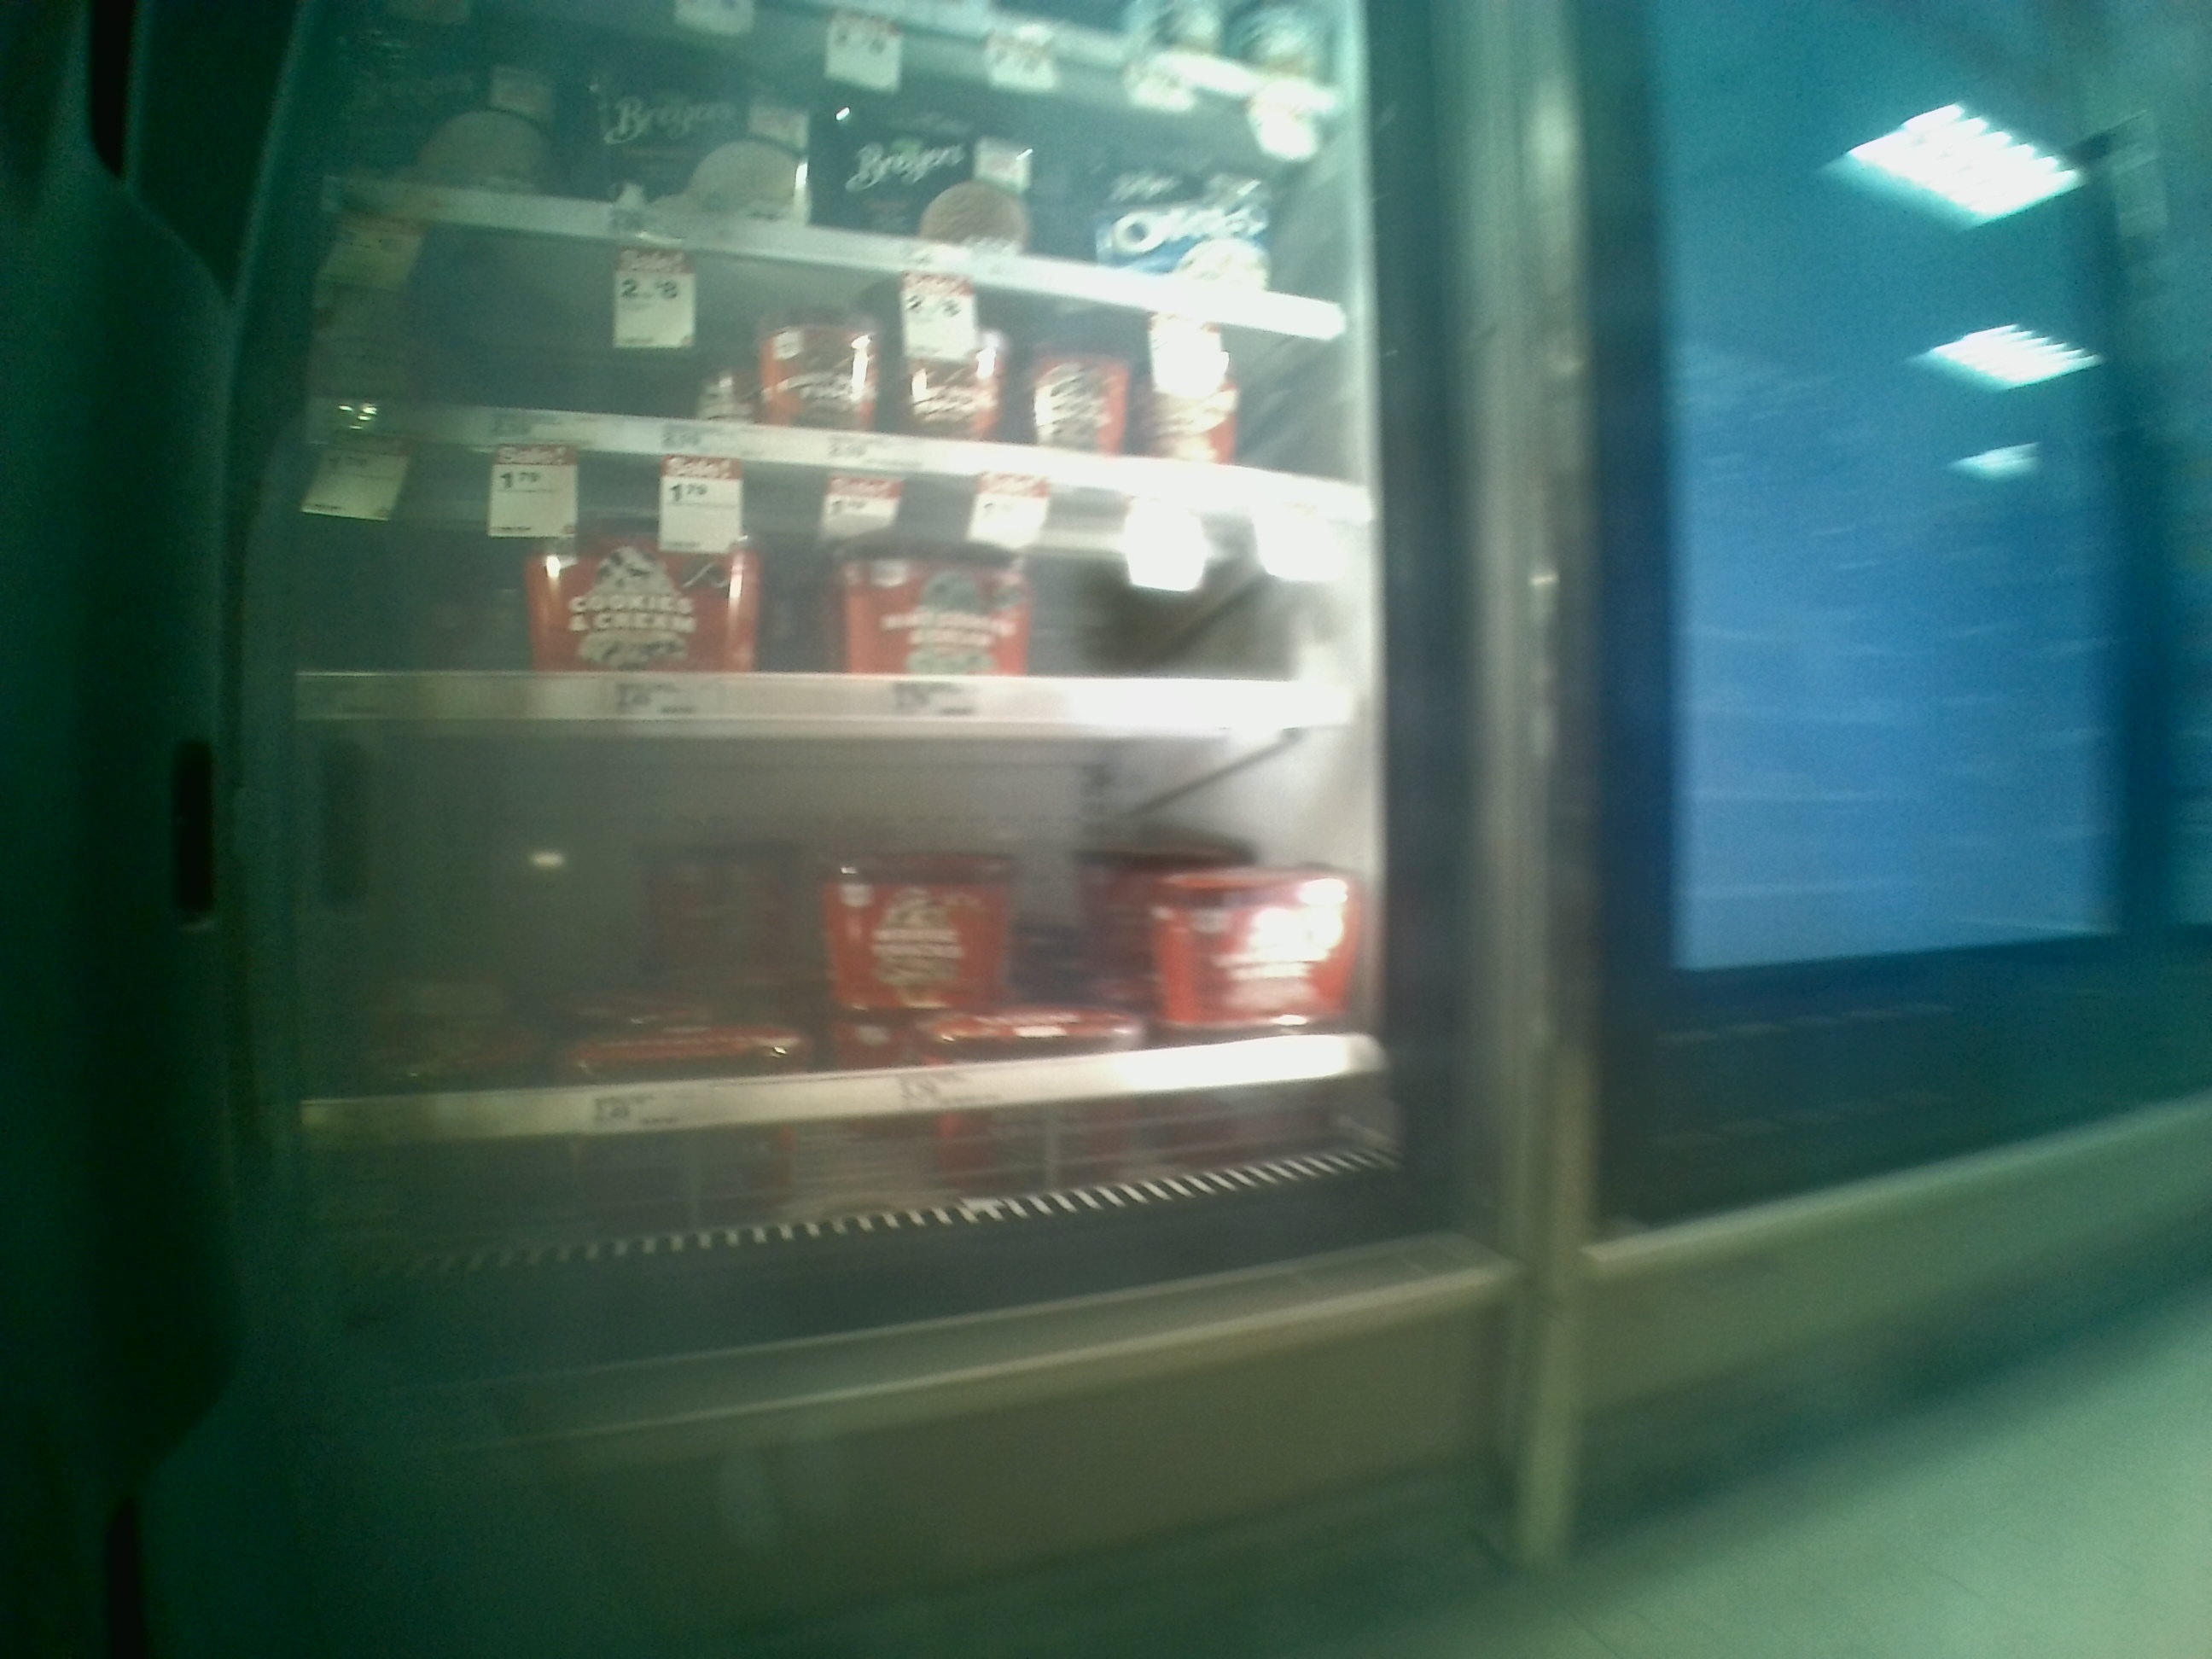shelf: (291, 723, 1388, 1202), (303, 430, 1367, 737)
